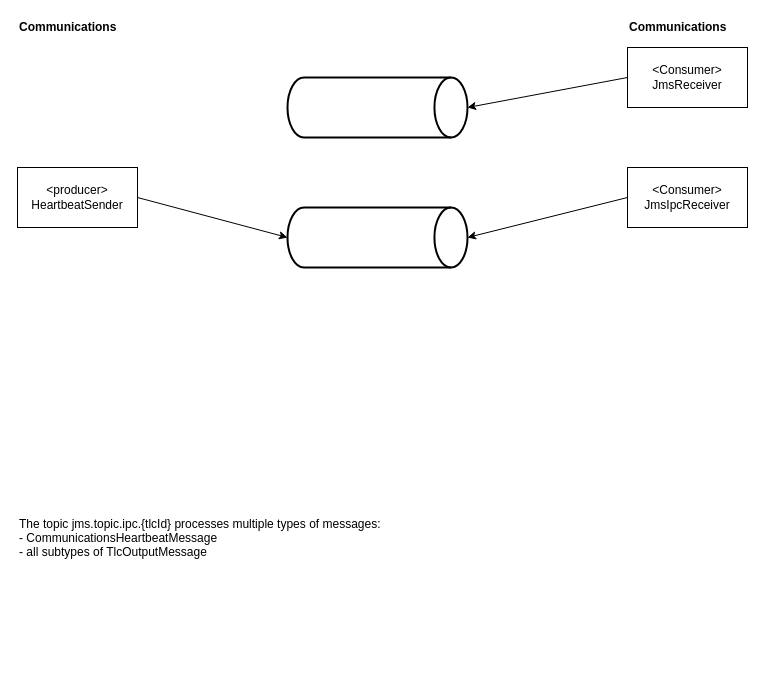
Image size: 765x674. Some labels were removed from this diagram. Here are the shapes that lost their labels. From the top down, the centre of each, then its label:
[377,107]: <queue> jms.queue.communications.in.{tlcId}
[377,237]: <topic> jms.topic.ipc.{tlcId}
